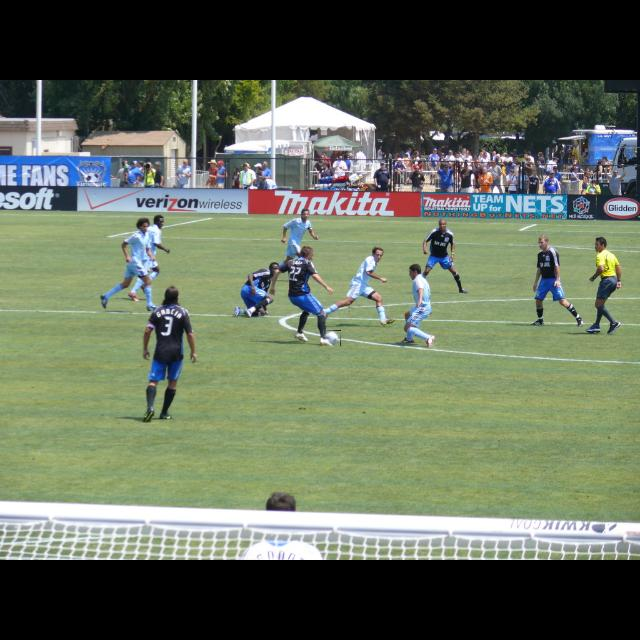Football: (323, 330, 341, 346)
